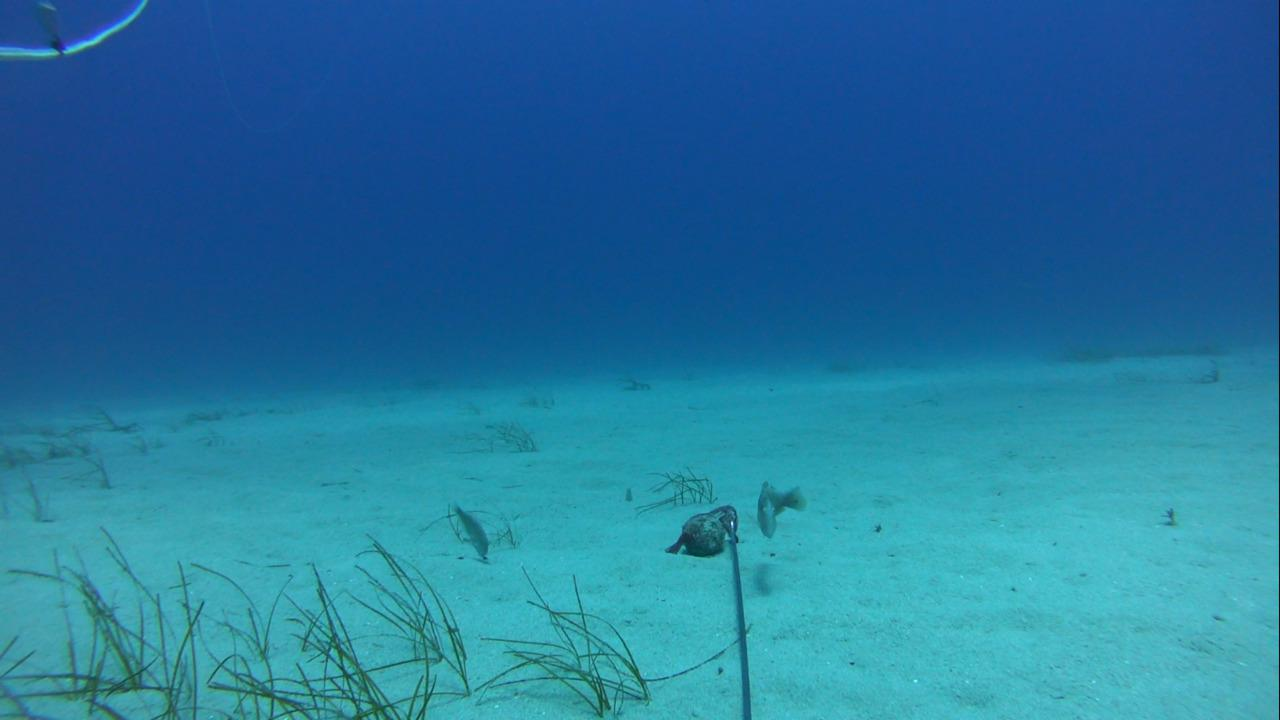raor: (746, 476, 804, 542), (450, 499, 491, 558)
